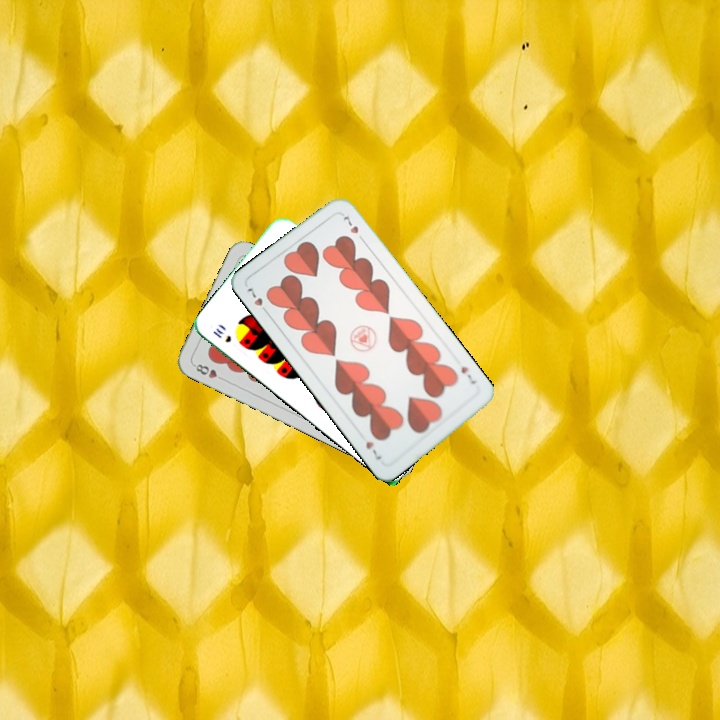H7: (242, 282, 272, 317), (457, 362, 479, 387)
H8: (190, 360, 228, 383)
S10: (209, 324, 234, 345)
